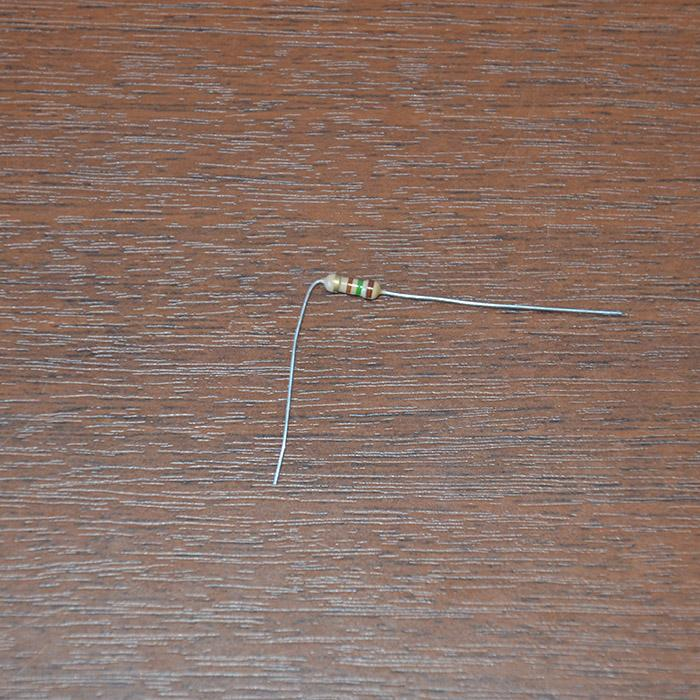resistor: (321, 272, 380, 299)
